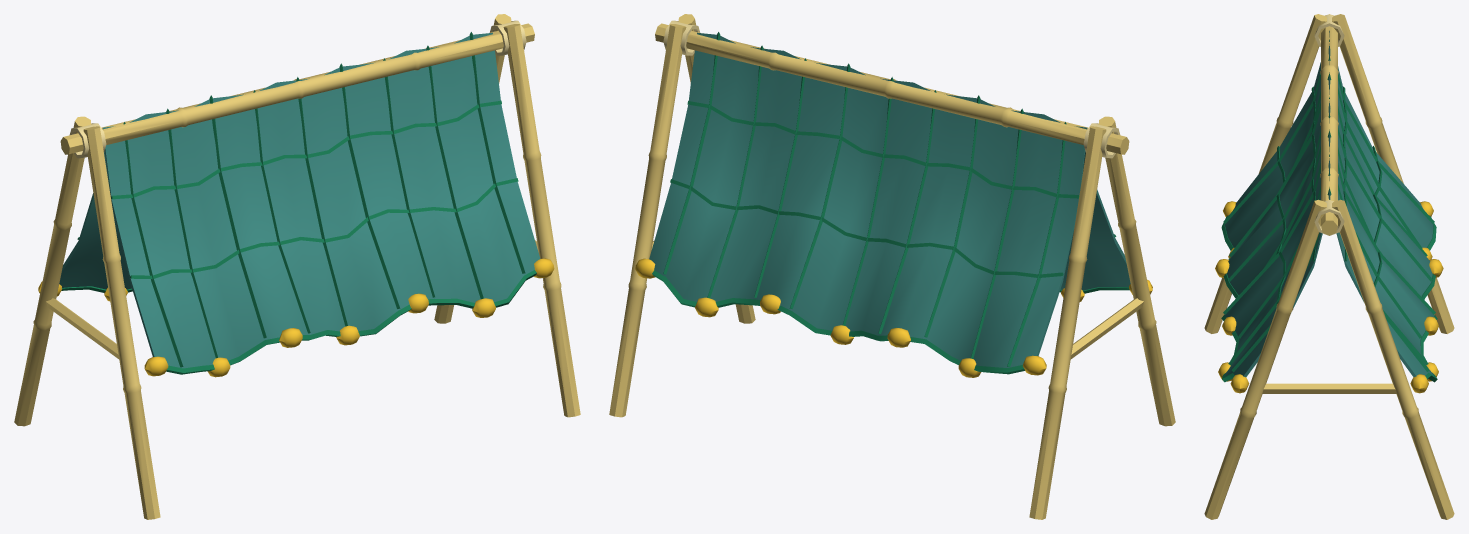
File: net_rack.glb
The picture shows the model from 3 angles, left to right: view 1: azimuth 30°, elevation 25°; view 2: azimuth 150°, elevation 25°; view 3: azimuth 270°, elevation 25°; orthographic projection. The views are drawn at different scales.
Visible parts, largest first — view 1: net_rack; view 2: net_rack; view 3: net_rack.
Boxes of the visible parts, x1,y1,x2,y2 form: net_rack: [14, 14, 580, 519]; net_rack: [609, 14, 1175, 519]; net_rack: [1204, 14, 1454, 519].
Bounding box in the file's own units: 3.1 × 2.21 × 1.59.
